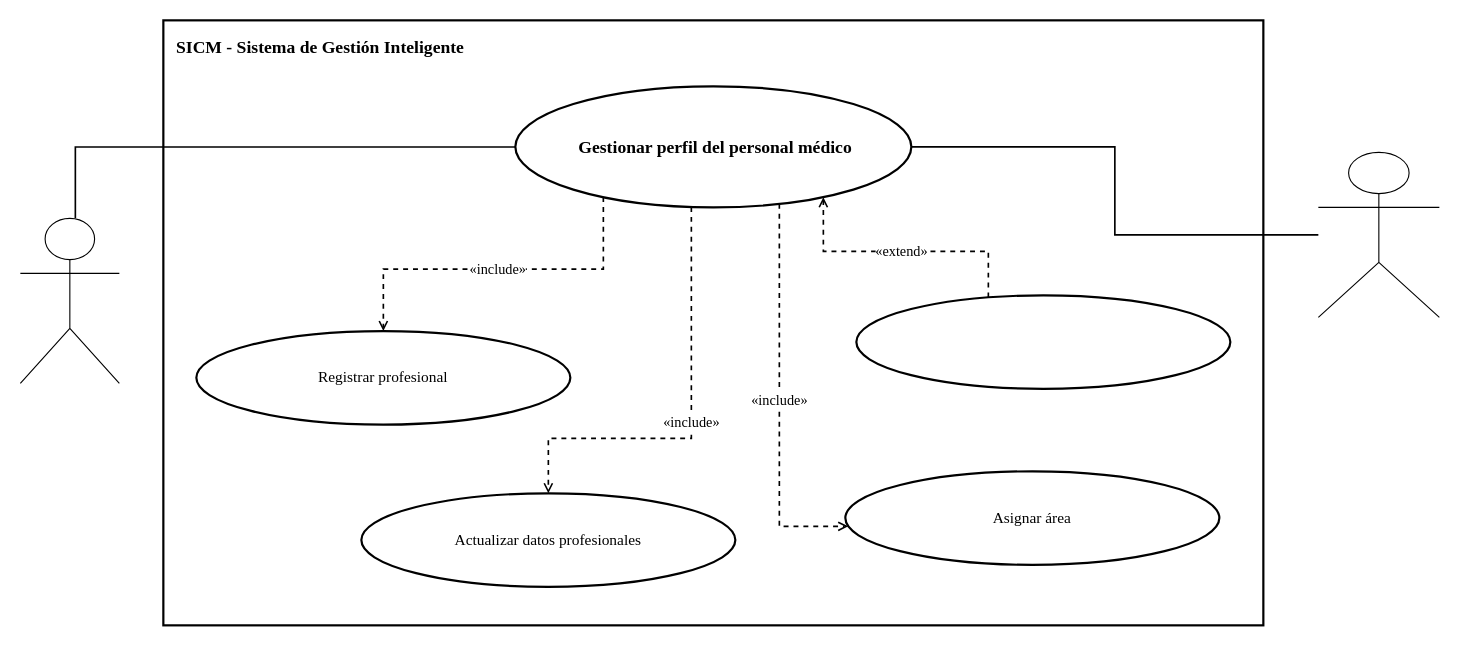
This 1459x645 diagram has some shape labels left out. The centre of each missing label's shape, as x and y in pixels:
"Coordinador(a)" belongs at (x=69, y=300).
"Desactivar perfil" belongs at (x=1043, y=341).
"Personal médico" belongs at (x=1378, y=234).
